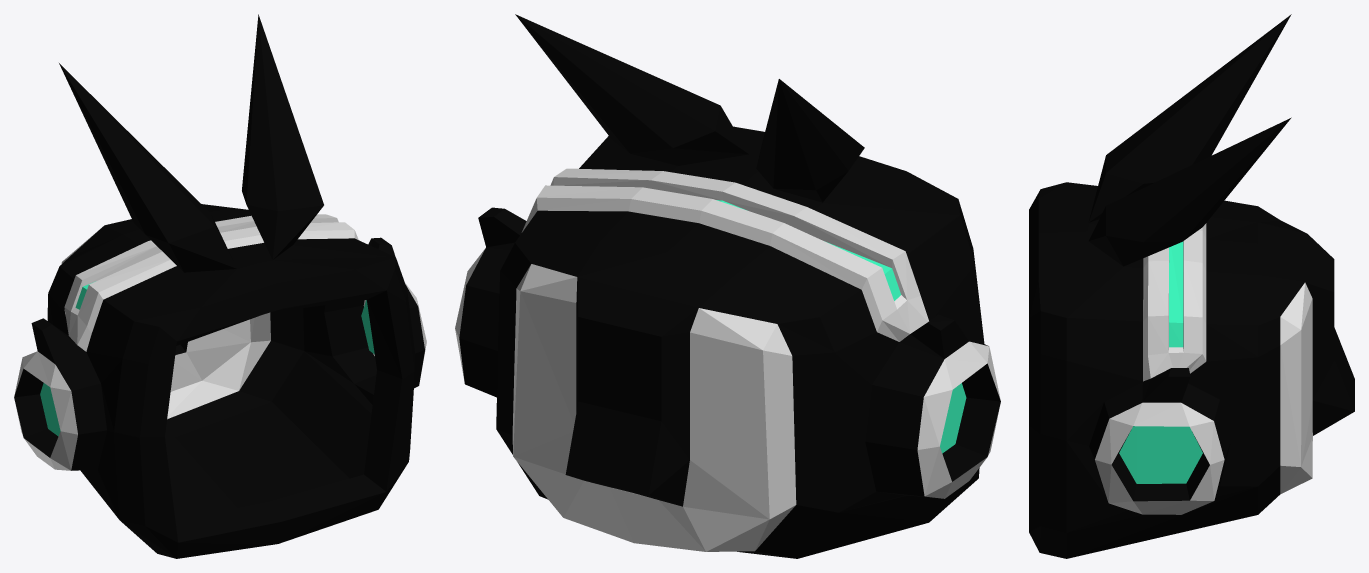
The model's file is player_body.obj.
3 views of the same model, side by side, from view 1: azimuth 30°, elevation 25°; view 2: azimuth 150°, elevation 25°; view 3: azimuth 270°, elevation 25° (orthographic). The views are drawn at different scales.
Visible parts, largest first — view 1: Body; view 2: Body; view 3: Body.
Boxes of the visible parts, bbox=[...] form: Body: bbox=[14, 14, 426, 558]; Body: bbox=[455, 14, 1000, 558]; Body: bbox=[1029, 14, 1354, 558].
Size of the model in its own units: 2.95 by 3.25 by 2.13.
Materials: 1 (1 with a texture image).
